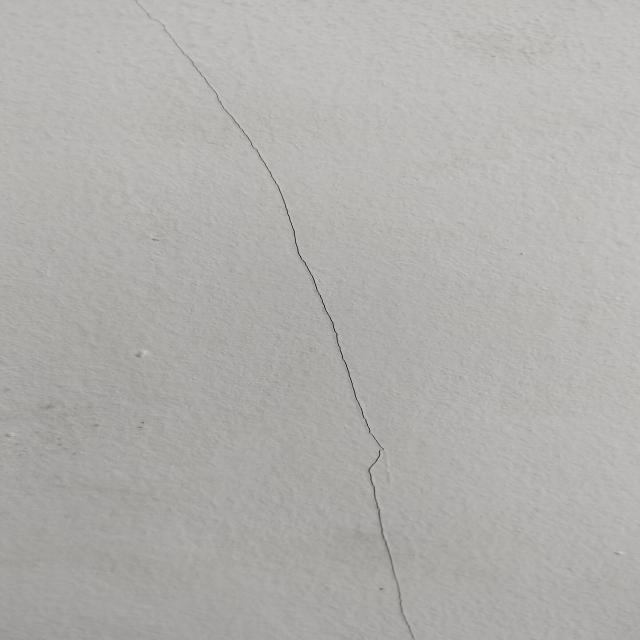Crack: (125, 0, 420, 640)
